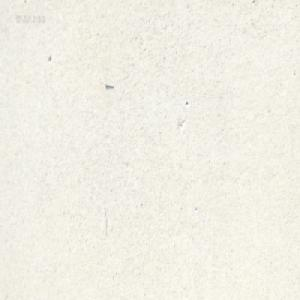Nail: (104, 82, 114, 87)
